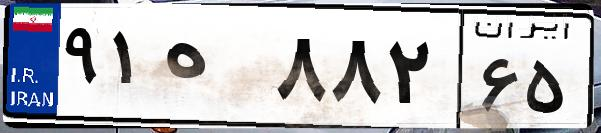1: (110, 28, 158, 98)
2: (385, 28, 445, 110)
5: (525, 38, 570, 115)
6: (475, 38, 525, 113)
8: (270, 28, 330, 110), (330, 28, 385, 110)
9: (57, 26, 110, 100)
ه: (158, 20, 270, 120)
